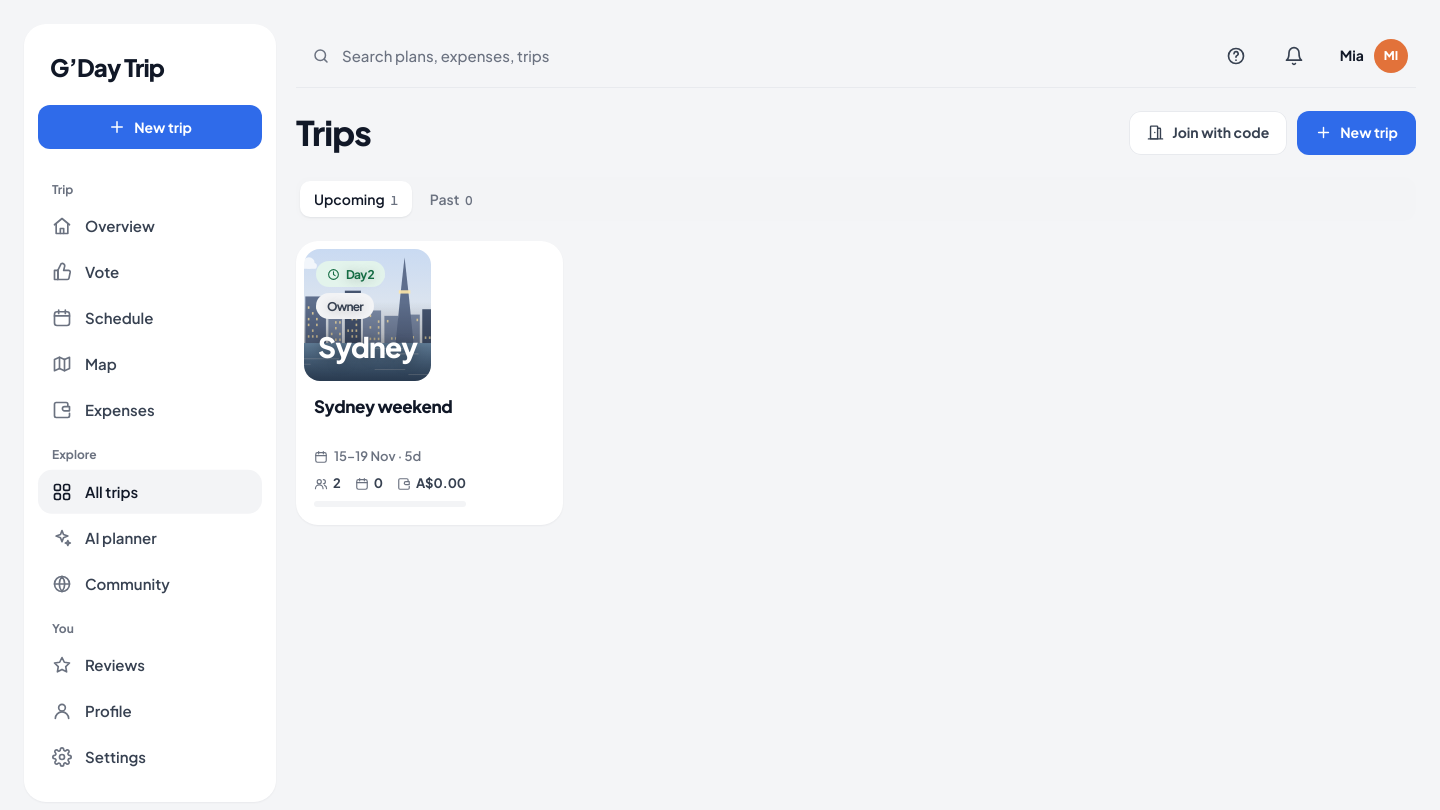
Test: Page tips › tips on an Explore page close with Skip (their key must not clash with the page's)
Check: the navigation bar with id "auth" is shown, box 38,470 -> 262,514
Click the button named "Tips for this page".
click(1236, 56)  # box 1214,34 -> 1258,78
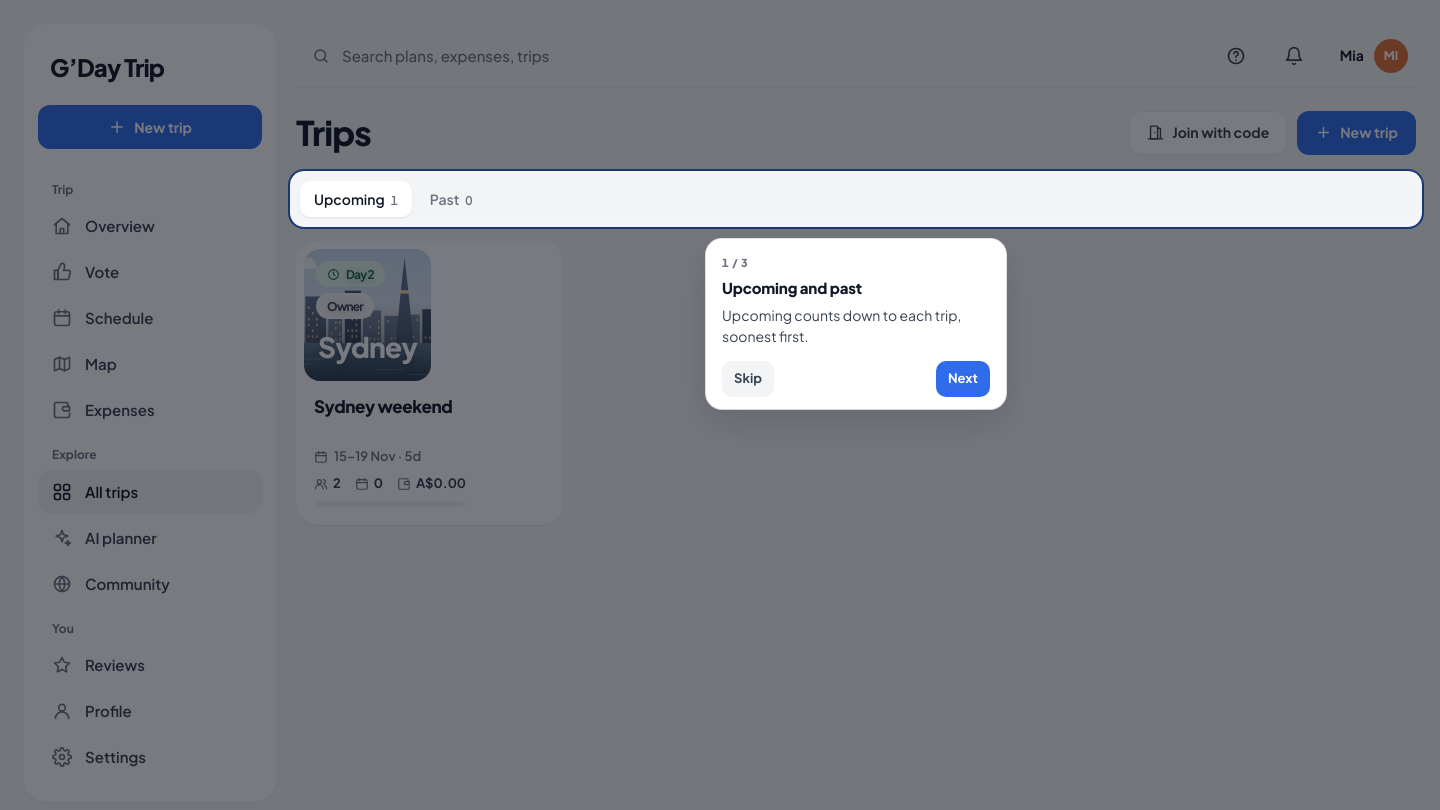
Click the button "Next".
click(963, 379)  # box 936,361 -> 990,397
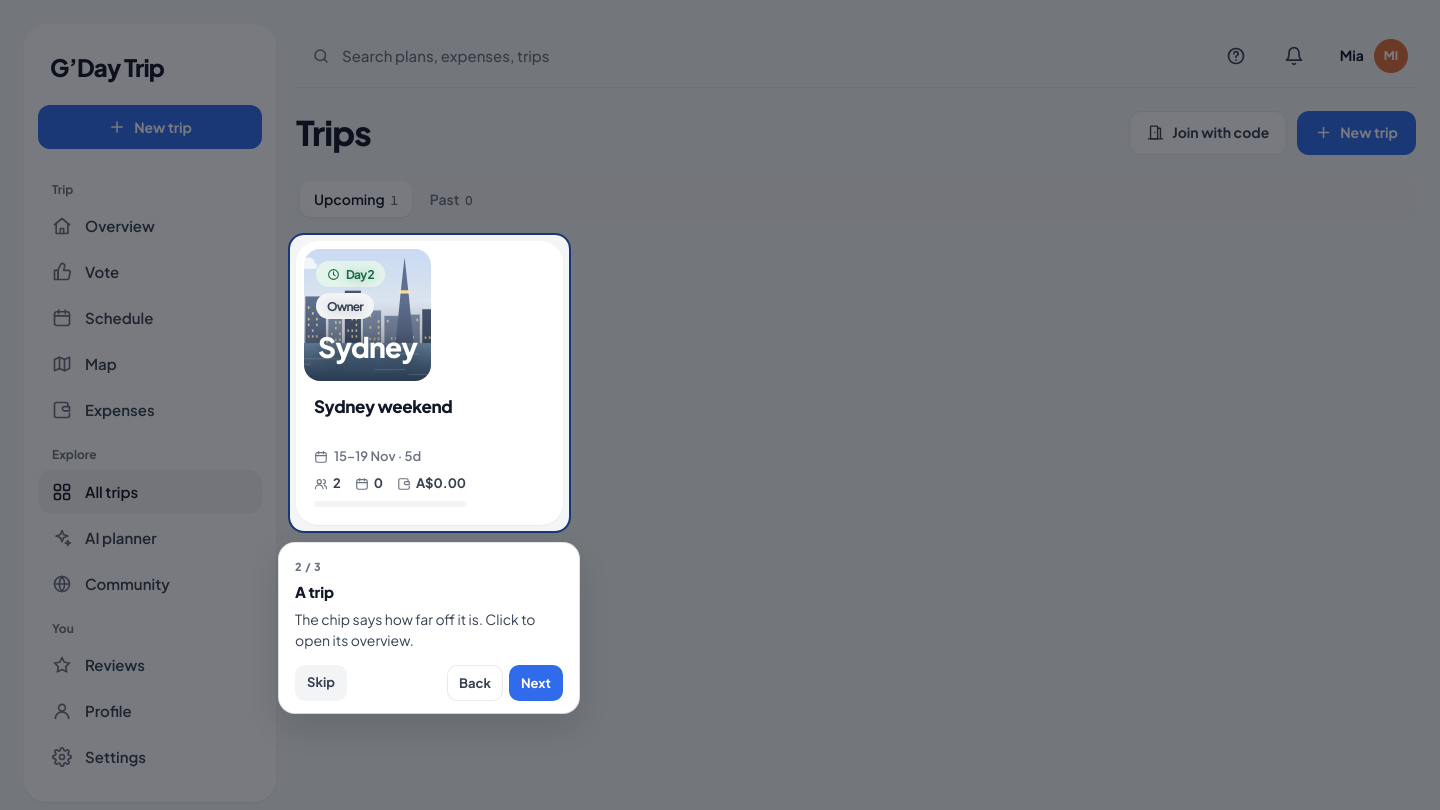
Click the button "Back".
click(475, 683)  # box 447,665 -> 503,701
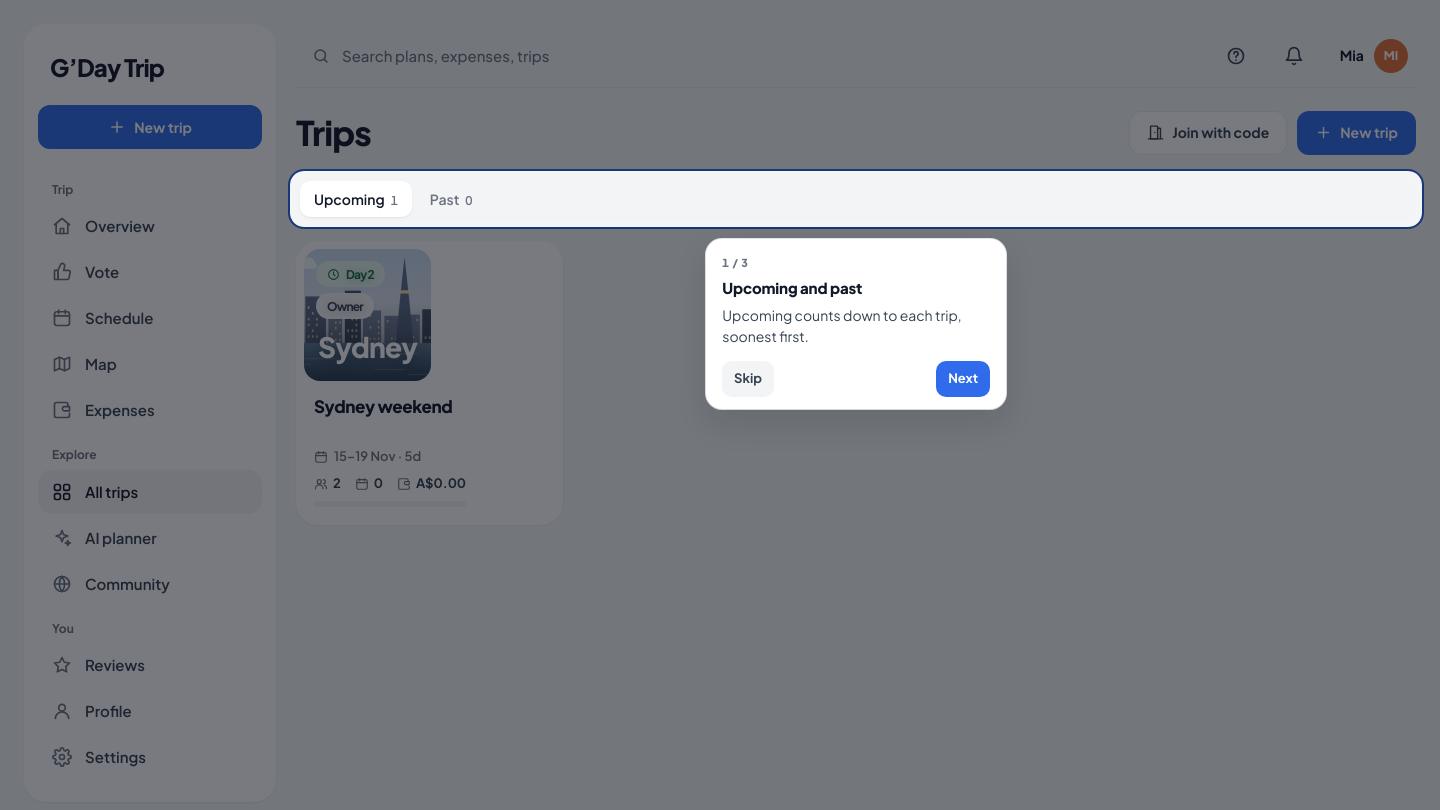
Click the button "Skip".
click(748, 379)  # box 722,361 -> 774,397
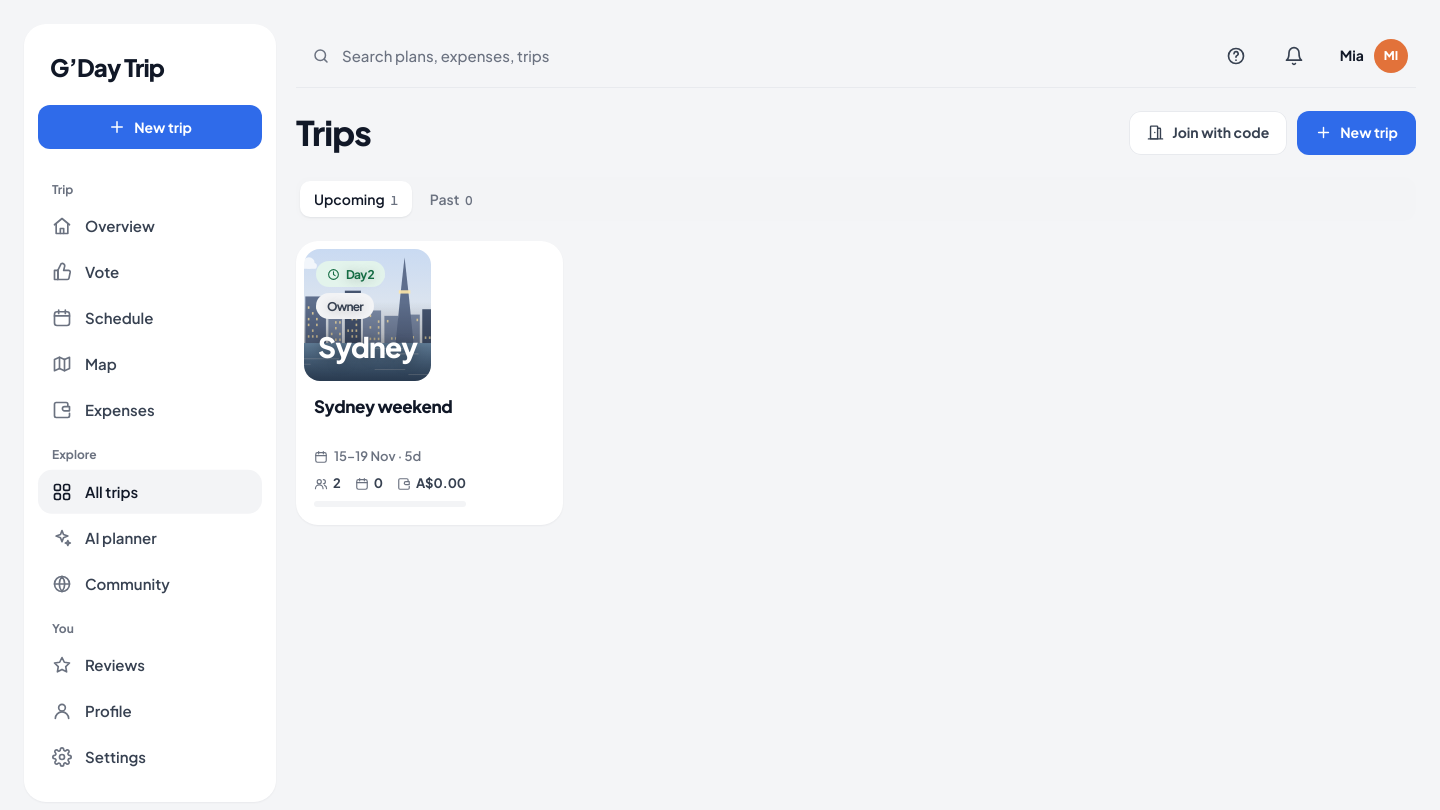
Check: the heading "Trips" is shown, box 296,108 -> 371,157
Check: the element with class "tour" is gone
